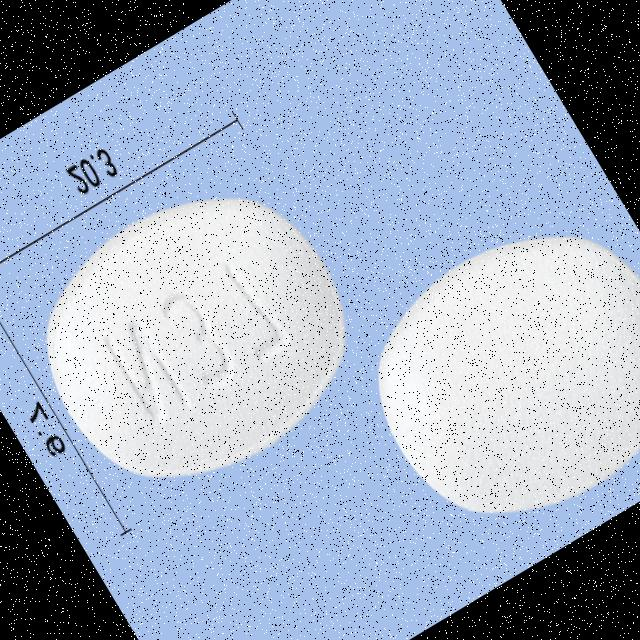Moxiclen Tab-625mg: (0, 148, 392, 530), (336, 190, 640, 563)
